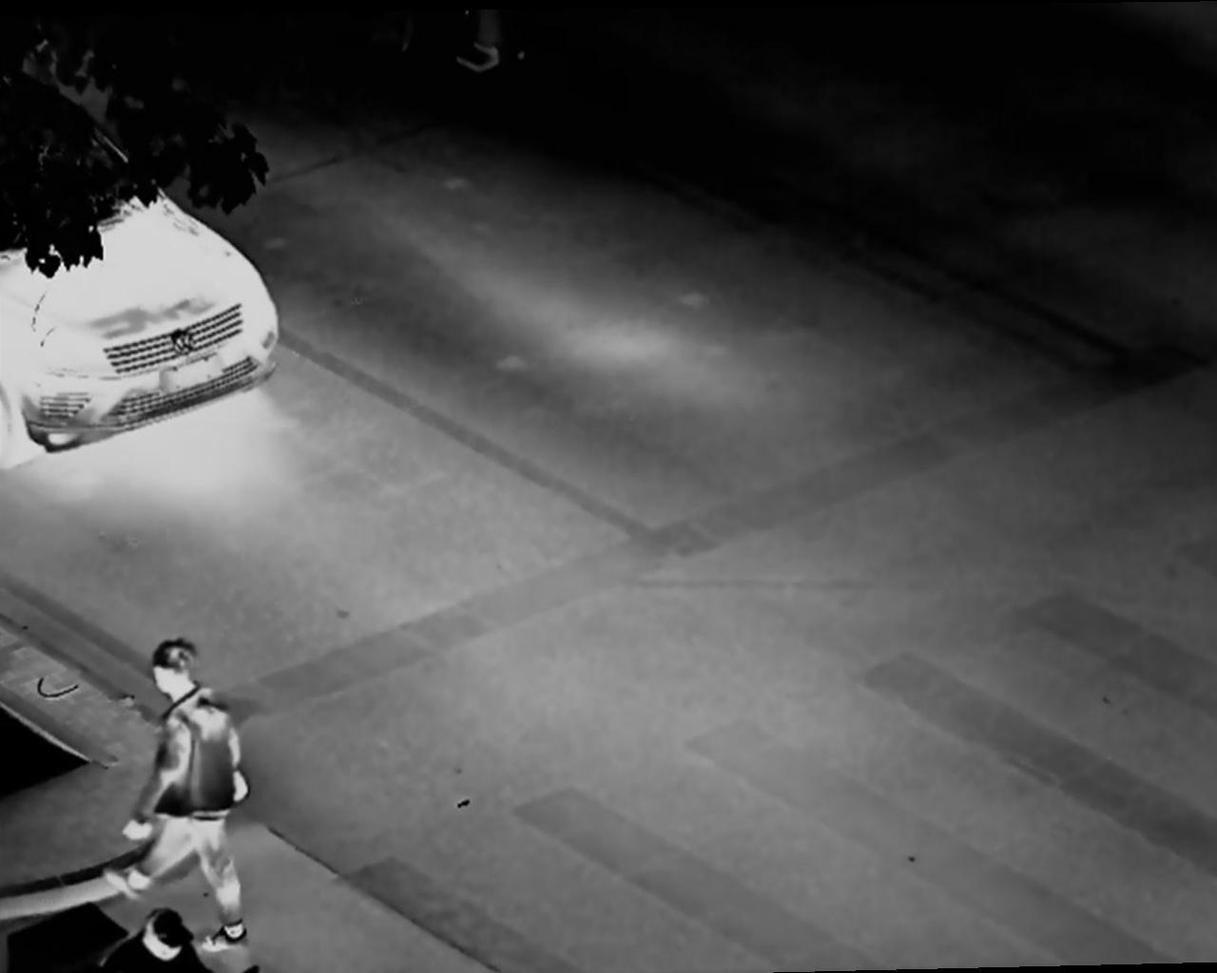person: (94, 634, 255, 948), (79, 914, 204, 973)
